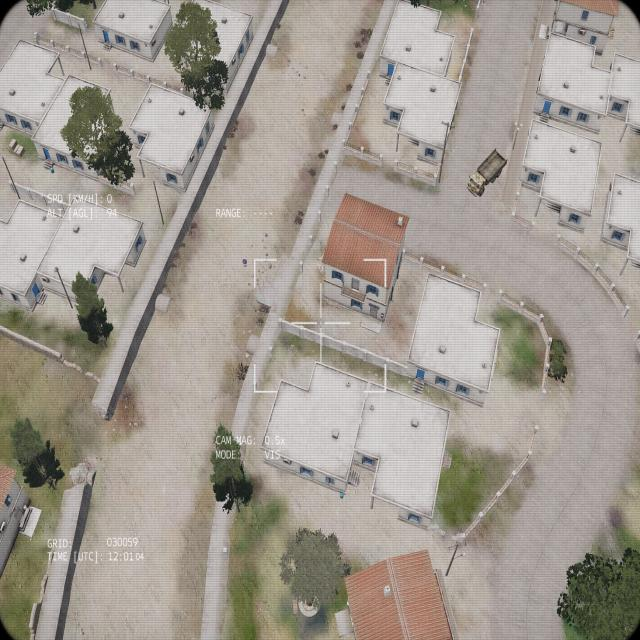truck: (464, 147, 508, 198)
